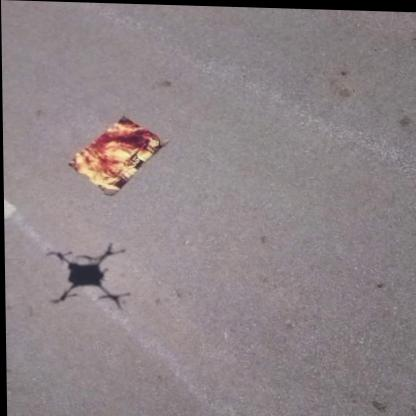fire-poster: (64, 113, 170, 198)
